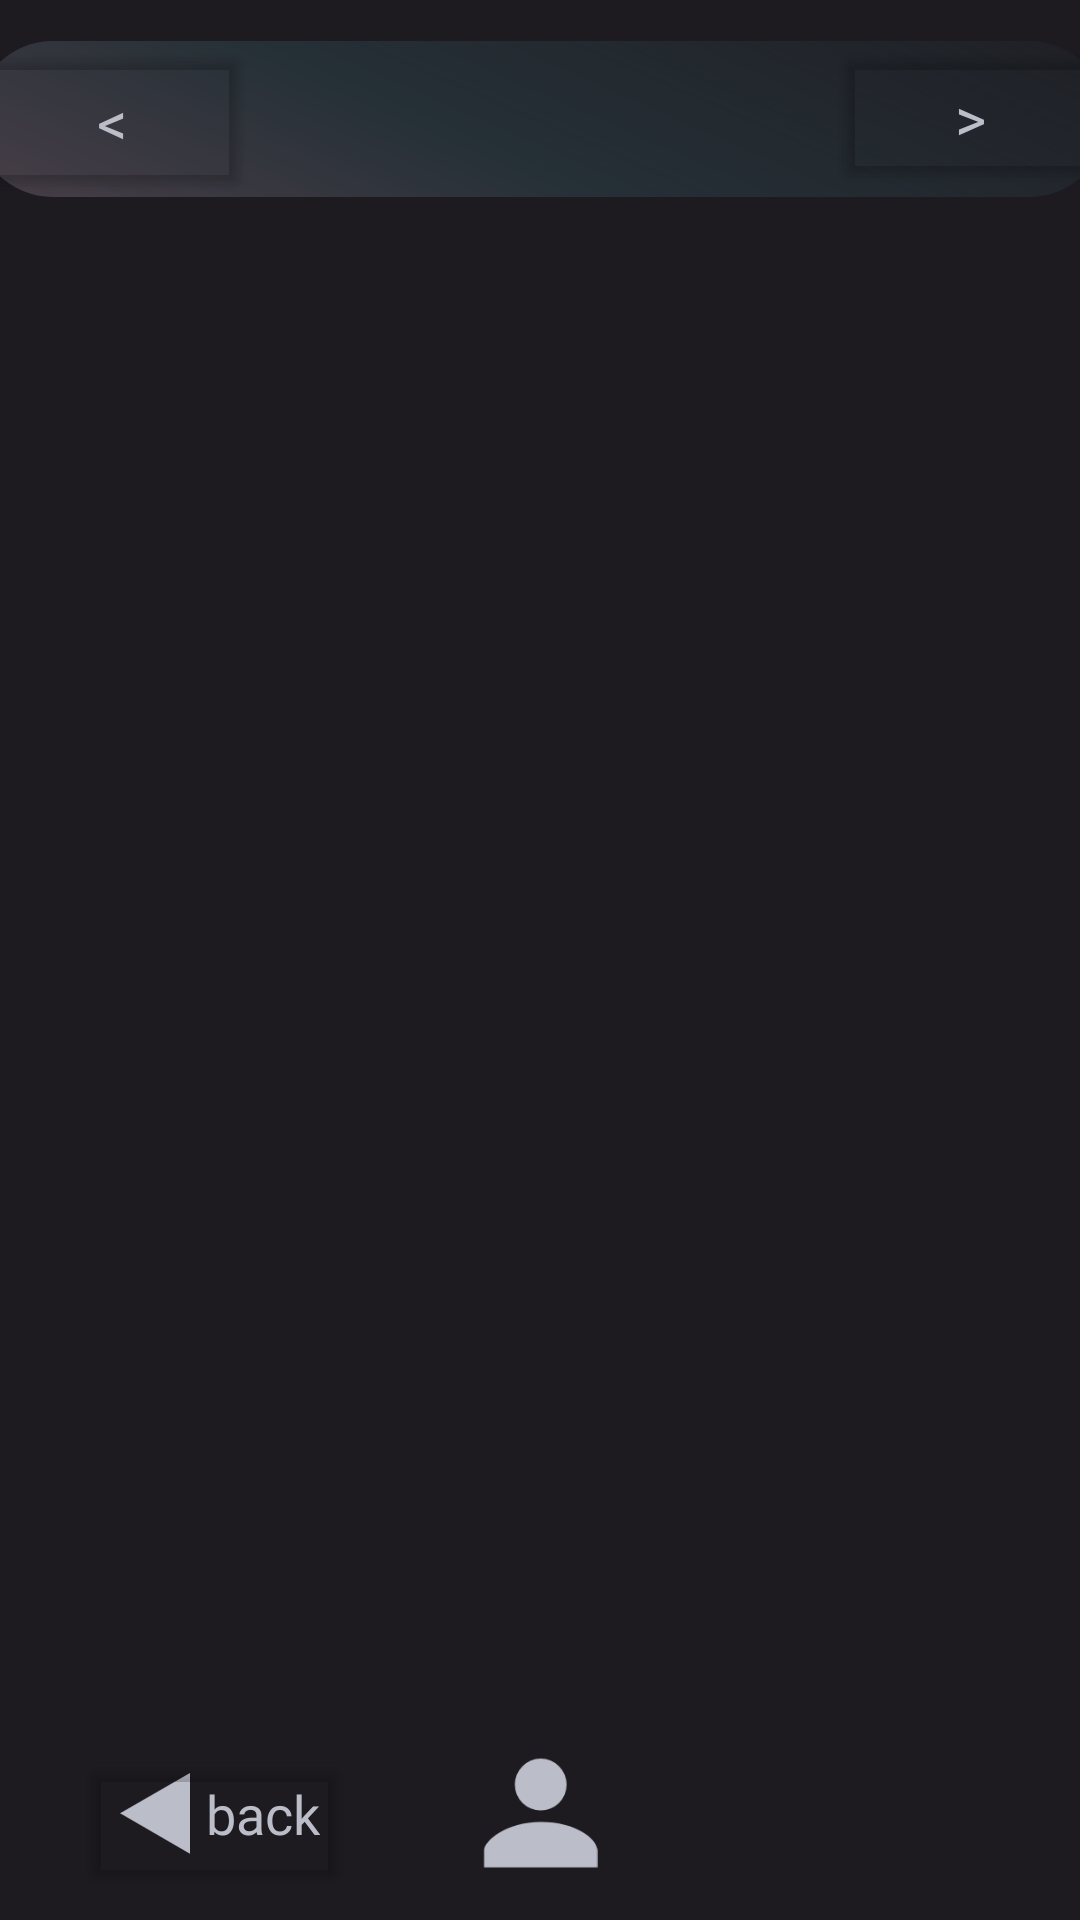

Locate icon controls on the screen. Image size 1080*1920, boxes as detection(x1, y1, x2, y2).
person: detection(483, 1758, 598, 1868)
